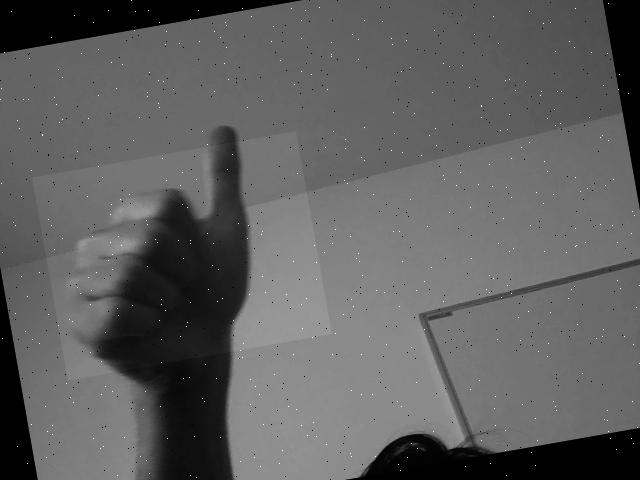good: (31, 131, 332, 380)
